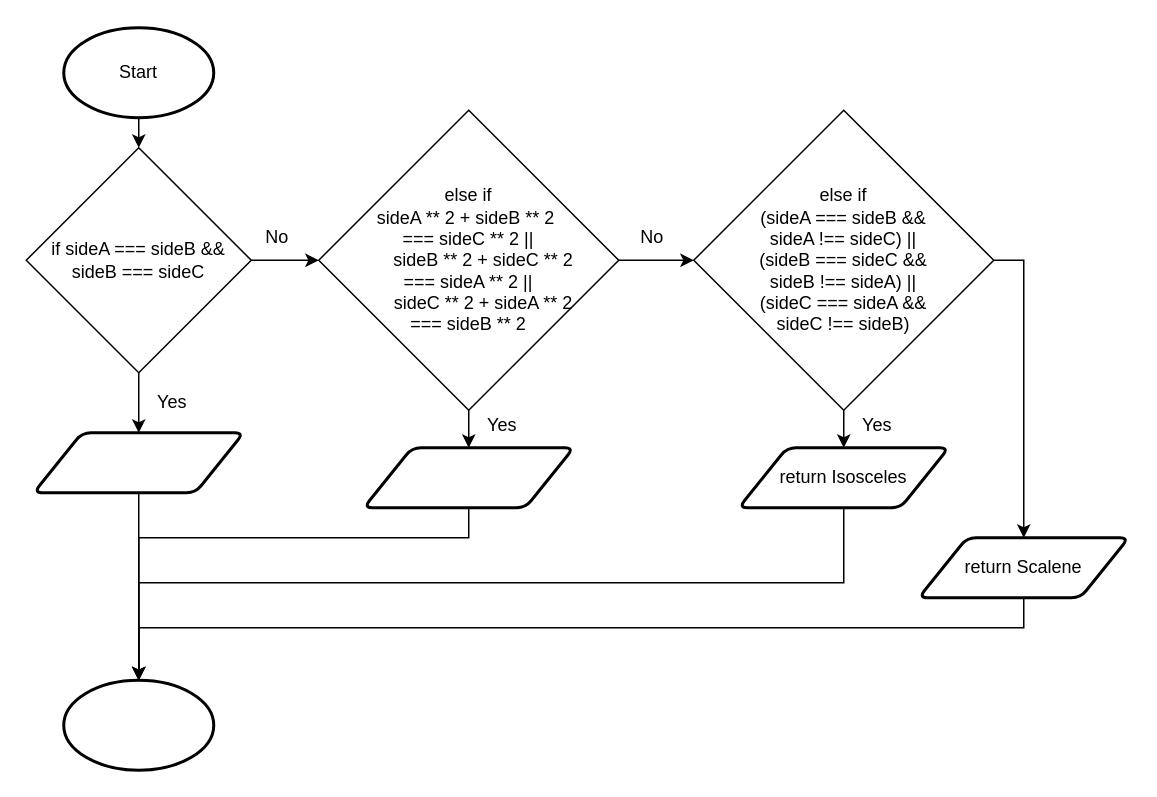
The diagram is 1157 pixels wide and 797 high, and some of its shapes have lost their labels. Each missing label, with the centre of its shape:
"return Equilateral" goes at pixel 138 462.
"return Right Angle" goes at pixel 468 477.
"Stop" goes at pixel 138 724.
